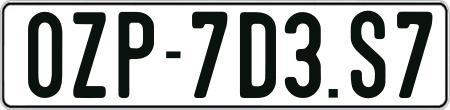0: (25, 9, 64, 101)
3: (282, 12, 324, 104)
7: (395, 10, 431, 101), (192, 11, 228, 97)
D: (237, 12, 278, 100)
P: (116, 9, 152, 95)
S: (350, 9, 390, 101)
Z: (73, 10, 111, 100)
